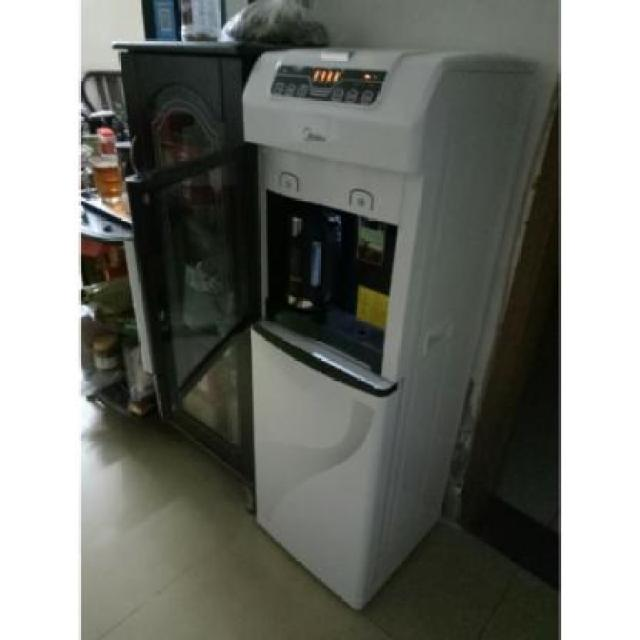cooler: (238, 43, 538, 615)
